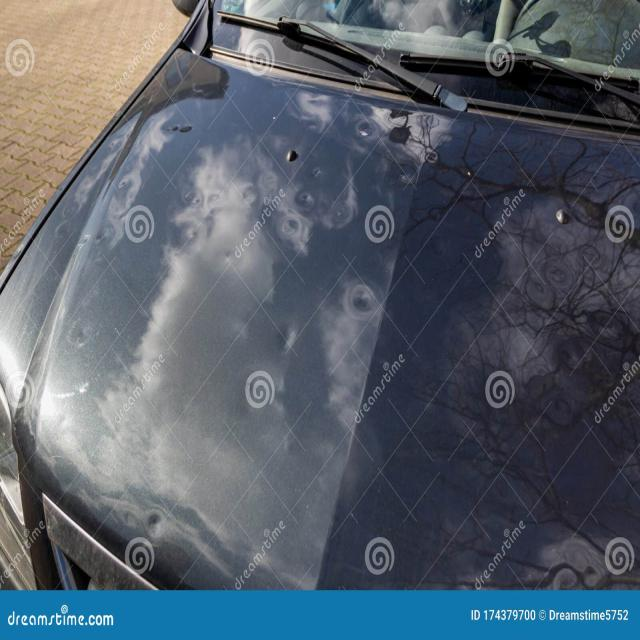dent: (346, 278, 375, 315), (143, 505, 168, 538), (293, 186, 315, 212)
